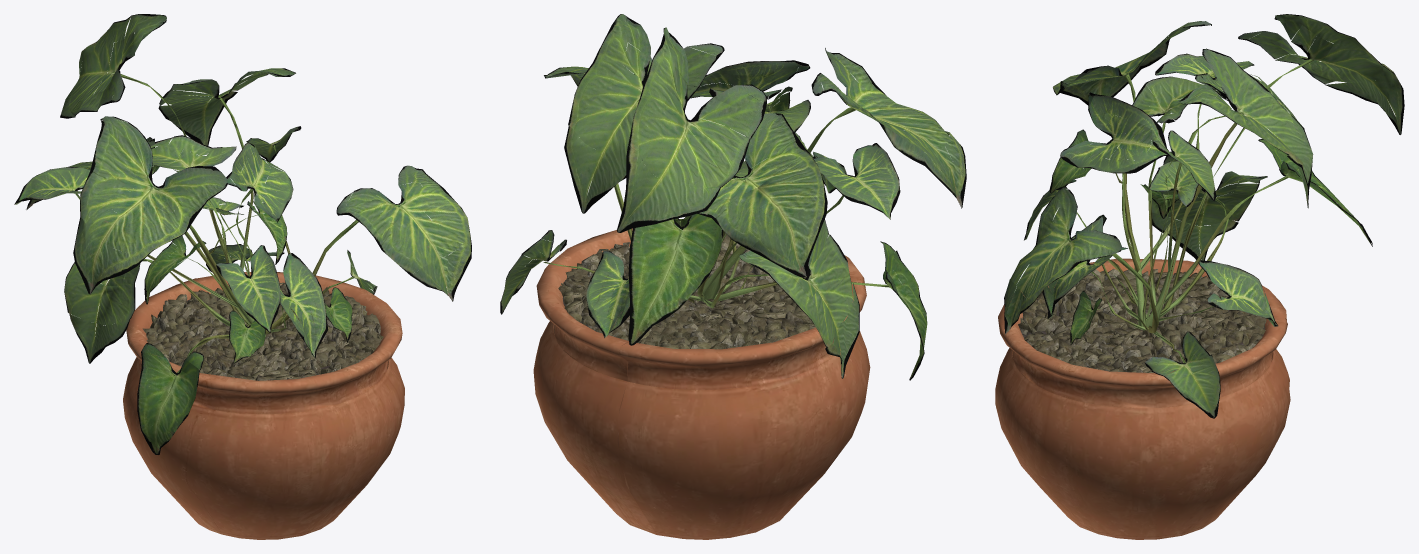
Rendered from plant_b.glb.
The picture shows the model from 3 angles, left to right: view 1: azimuth 30°, elevation 25°; view 2: azimuth 150°, elevation 25°; view 3: azimuth 270°, elevation 25°; orthographic projection. The views are drawn at different scales.
Visible parts, largest first — view 1: potted_plant_02_leaves, potted_plant_02_dirt; view 2: potted_plant_02_leaves, potted_plant_02_dirt; view 3: potted_plant_02_dirt, potted_plant_02_leaves.
Part boxes in pixels (x1=…): potted_plant_02_leaves: x1=14, y1=14, x2=471, y2=454; potted_plant_02_dirt: x1=123, y1=272, x2=404, y2=539; potted_plant_02_leaves: x1=500, y1=14, x2=966, y2=380; potted_plant_02_dirt: x1=533, y1=228, x2=870, y2=539; potted_plant_02_dirt: x1=995, y1=258, x2=1290, y2=539; potted_plant_02_leaves: x1=1004, y1=14, x2=1404, y2=418.
Size of the model in its own units: 0.7008 by 0.8416 by 0.6564.
2 materials, 2 textured.
